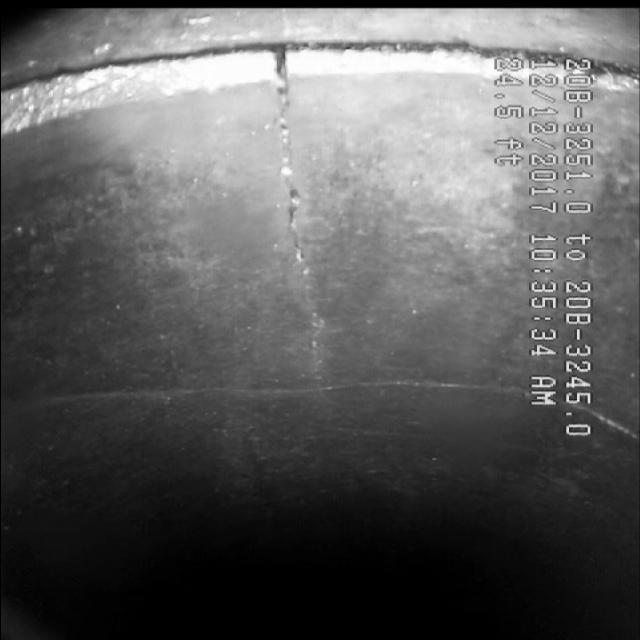Crack: (248, 90, 360, 352)
